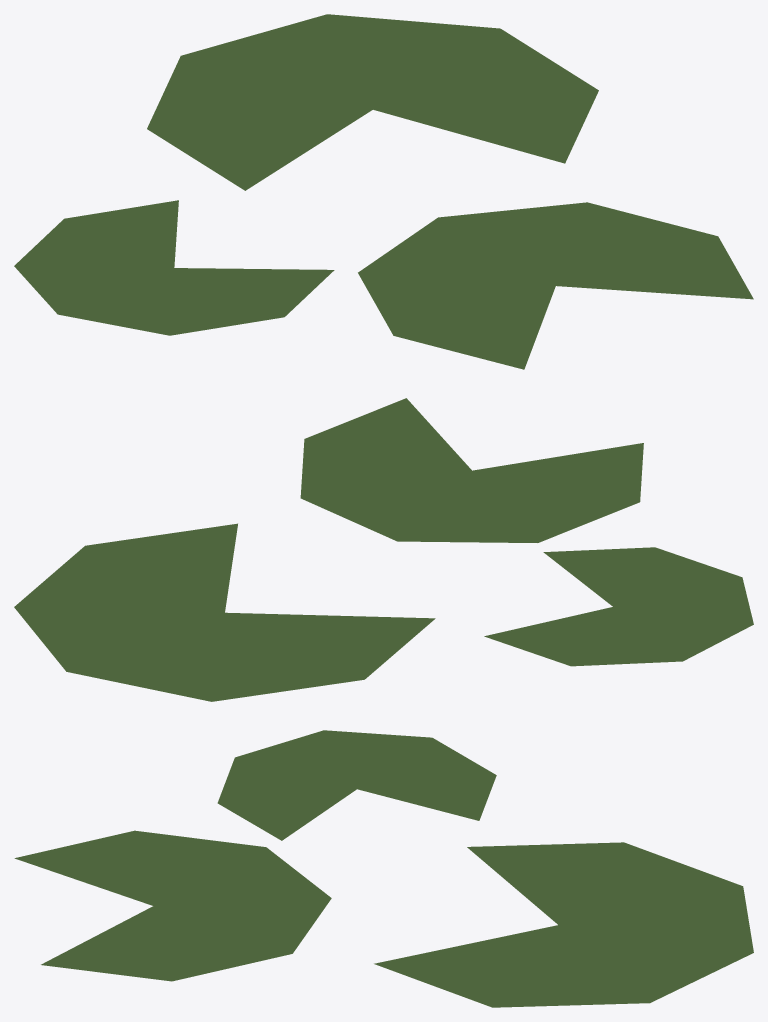
The model's file is lily_cluster.glb.
3 views of the same model, one above another, from view 1: azimuth 30°, elevation 25°; view 2: azimuth 150°, elevation 25°; view 3: azimuth 270°, elevation 25° (orthographic). The views are drawn at different scales.
Visible parts, largest first — view 1: lily_cluster_lod0; view 2: lily_cluster_lod0; view 3: lily_cluster_lod0.
Part boxes in pixels (x1,y1,x2,y2): lily_cluster_lod0: [14, 14, 753, 369]; lily_cluster_lod0: [14, 398, 753, 701]; lily_cluster_lod0: [14, 730, 753, 1007].
Size of what is drawn, in the model's own units: 1.46 by 0 by 1.65.
